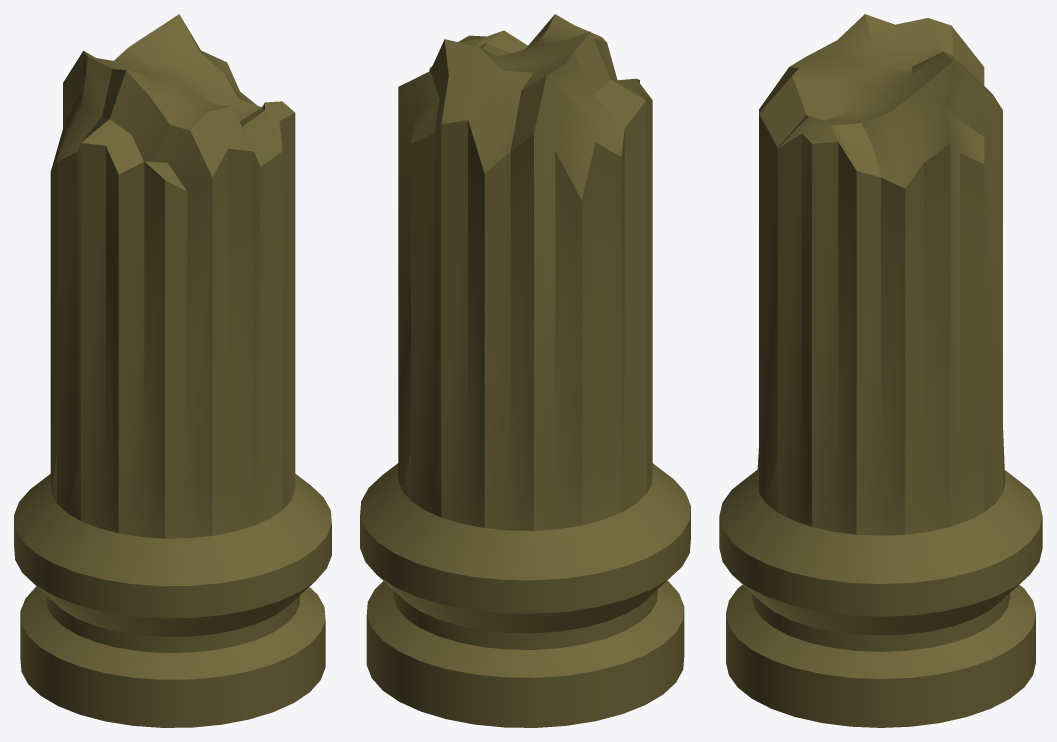
File: column_broken_bottom.fbx
3 views of the same model, side by side, from view 1: azimuth 30°, elevation 25°; view 2: azimuth 150°, elevation 25°; view 3: azimuth 270°, elevation 25° (orthographic). The views are drawn at different scales.
Visible parts, largest first — view 1: Column_Broken_Bottom; view 2: Column_Broken_Bottom; view 3: Column_Broken_Bottom.
Part boxes in pixels (x1,y1,x2,y2): Column_Broken_Bottom: (14,14,331,727); Column_Broken_Bottom: (360,14,690,727); Column_Broken_Bottom: (719,14,1042,727).
Size of the model in its own units: 154 by 327 by 154.
